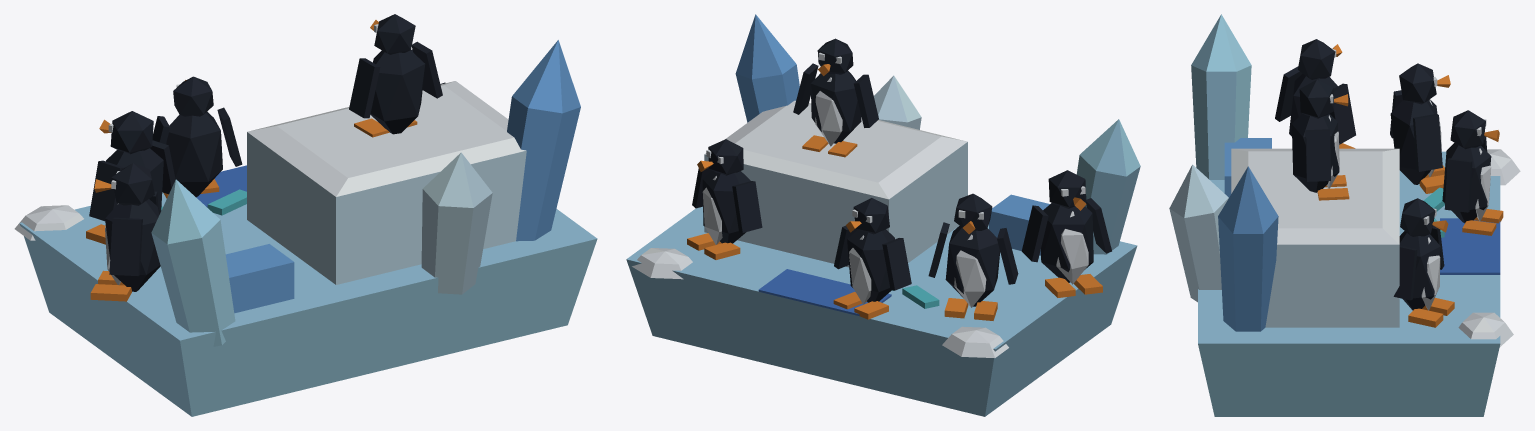
The model's file is Decor_IcePalace_Penguins.fbx.
The picture shows the model from 3 angles, left to right: view 1: azimuth 30°, elevation 25°; view 2: azimuth 150°, elevation 25°; view 3: azimuth 270°, elevation 25°; orthographic projection. The views are drawn at different scales.
Visible parts, largest first — view 1: Penguins_Body; view 2: Penguins_Body; view 3: Penguins_Body.
Boxes of the visible parts, x1=… form: Penguins_Body: x1=14, y1=14, x2=597, y2=416; Penguins_Body: x1=626, y1=14, x2=1140, y2=416; Penguins_Body: x1=1169, y1=14, x2=1520, y2=416.
Size of the model in its own units: 12.4 by 8 by 9.
